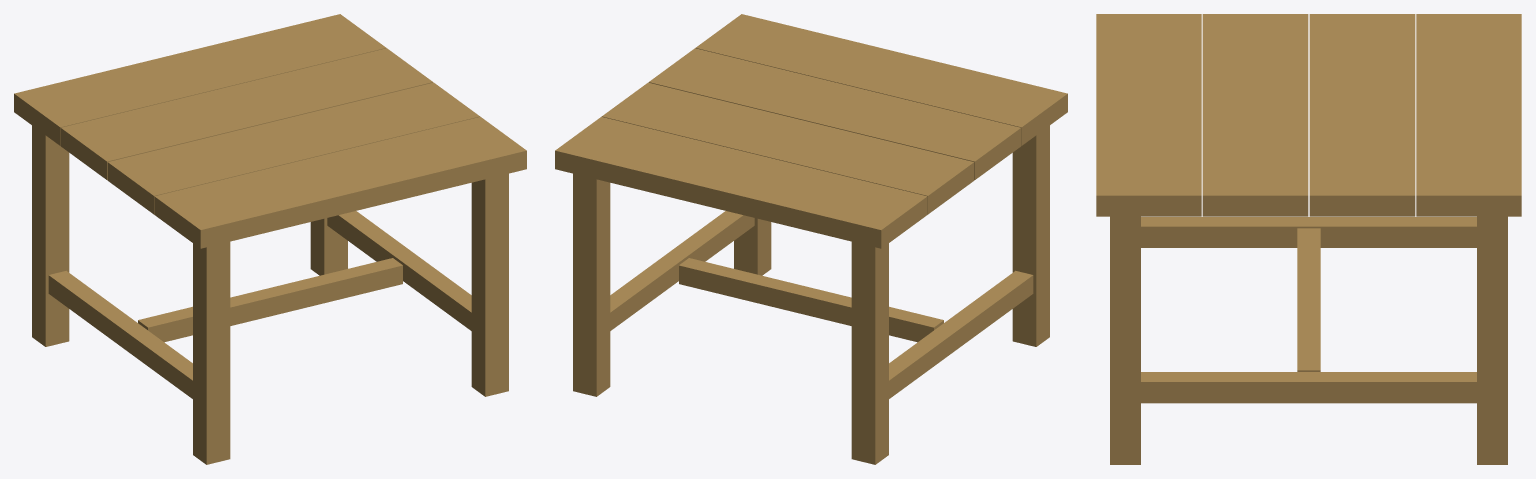
File: tisch-quadratisch.glb
The picture shows the model from 3 angles, left to right: view 1: azimuth 30°, elevation 25°; view 2: azimuth 150°, elevation 25°; view 3: azimuth 270°, elevation 25°; orthographic projection. The views are drawn at different scales.
Parts seen in each view (by area): view 1: tisch-quadratisch; view 2: tisch-quadratisch; view 3: tisch-quadratisch.
Boxes of the visible parts, x1,y1,x2,y2 form: tisch-quadratisch: [14, 14, 526, 464]; tisch-quadratisch: [555, 14, 1067, 464]; tisch-quadratisch: [1096, 14, 1521, 464].
Bounding box in the file's own units: 1.1 × 0.78 × 1.09.
